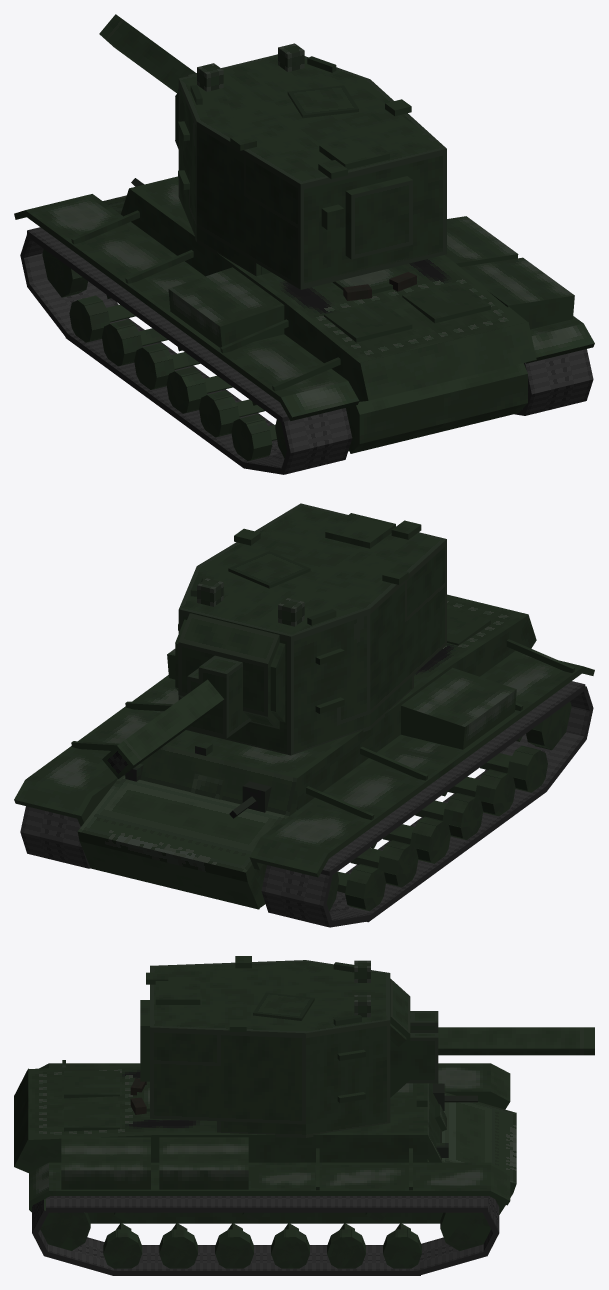
3 renders of one model, top to bottom at view 1: azimuth 30°, elevation 25°; view 2: azimuth 150°, elevation 25°; view 3: azimuth 270°, elevation 25°, orthographic. The views are drawn at different scales.
Visible parts, largest first — view 1: cube (×52); view 2: cube (×52); view 3: cube (×59).
Part boxes in pixels (x1,y1,x2,y2): cube (×52): [20, 14, 594, 474]; cube (×52): [14, 503, 593, 927]; cube (×59): [14, 960, 594, 1275].
Bounding box in the file's own units: 5.06 × 4.27 × 9.74.
Materials: 1 (1 with a texture image).
